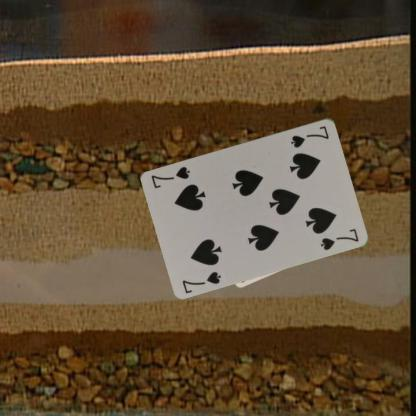7s: (180, 268, 223, 295), (288, 122, 330, 148)
